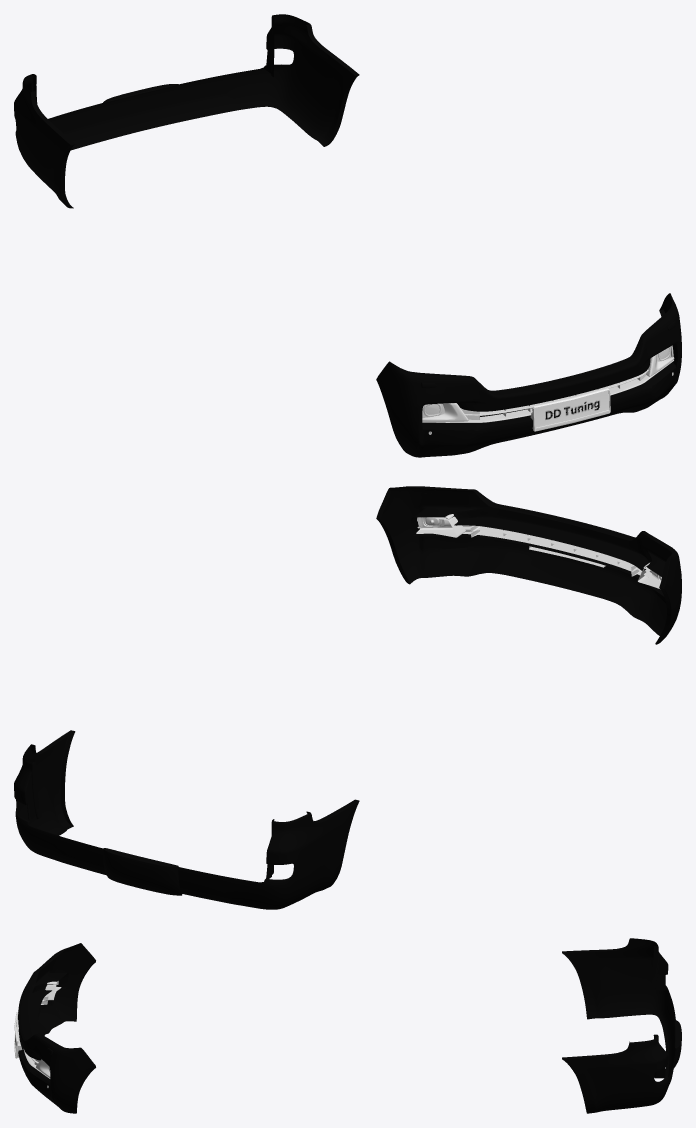
File: юбкасток.glb
3 renders of one model, top to bottom at view 1: azimuth 30°, elevation 25°; view 2: azimuth 150°, elevation 25°; view 3: azimuth 270°, elevation 25°, orthographic. The views are drawn at different scales.
Parts seen in each view (by area): view 1: car, chrome, numberplate; view 2: car, chrome; view 3: car, chrome.
Boxes of the visible parts, x1,y1,x2,y2 form: car: (14,14,681,457); chrome: (422,345,674,434); numberplate: (532,388,610,431); car: (14,486,681,909); chrome: (416,514,661,588); car: (18,938,681,1113); chrome: (16,981,61,1087).
Bounding box in the file's own units: 2.26 × 0.7539 × 5.91.
Materials: 4 (1 with a texture image).
